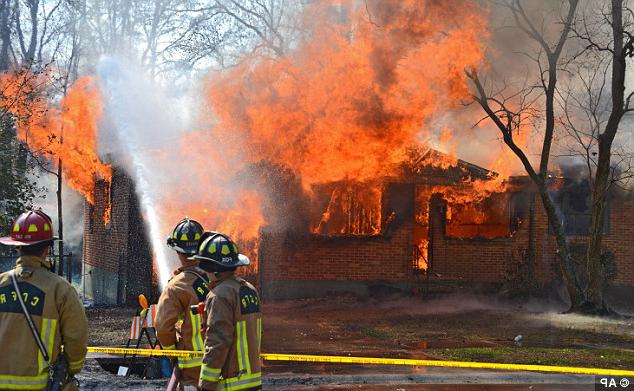fire: (160, 4, 543, 268), (4, 58, 121, 217)
